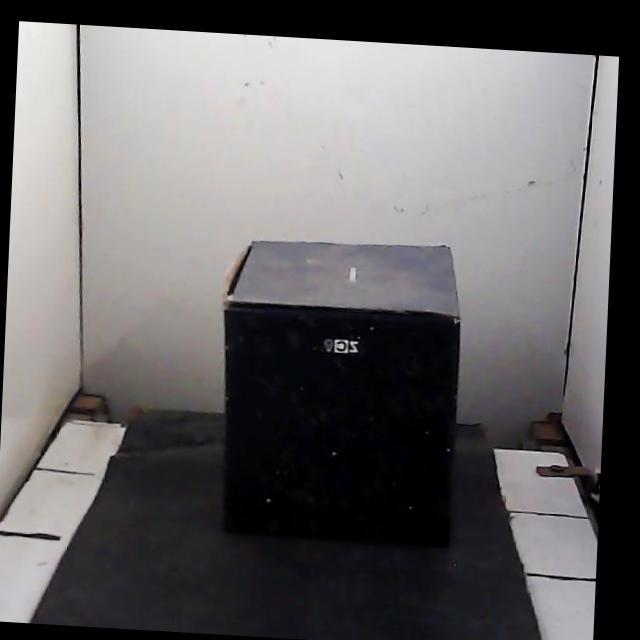papel: (223, 241, 459, 544)
